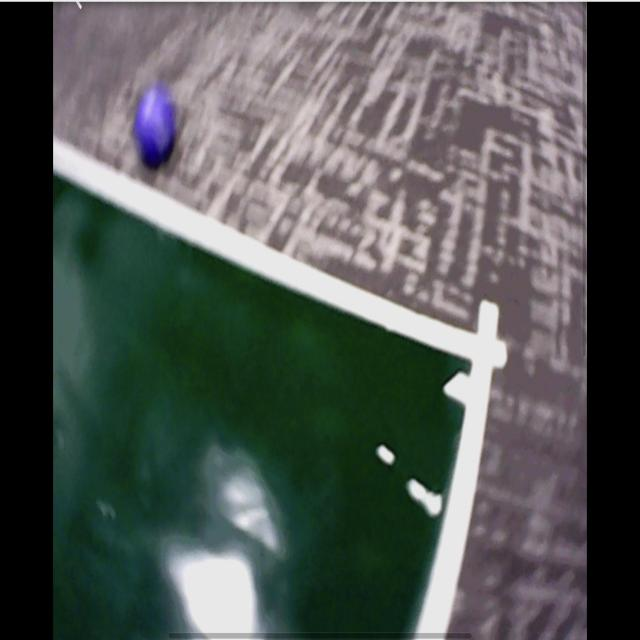ball: (134, 88, 176, 162)
